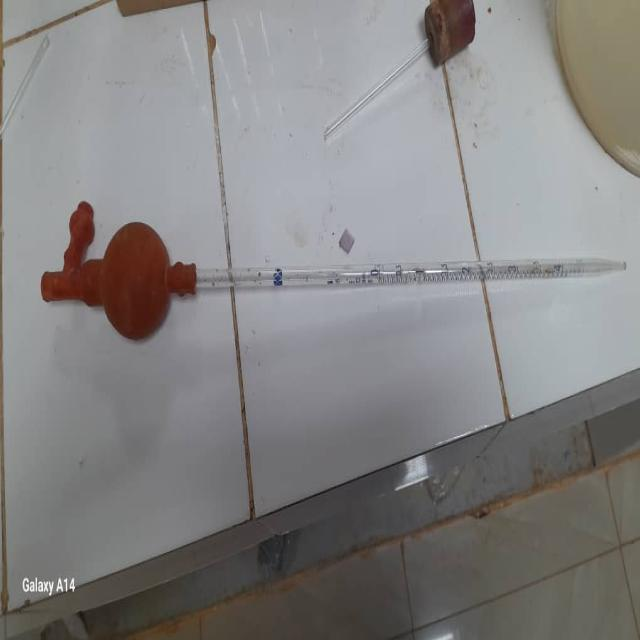Droppers: (31, 200, 637, 336)
